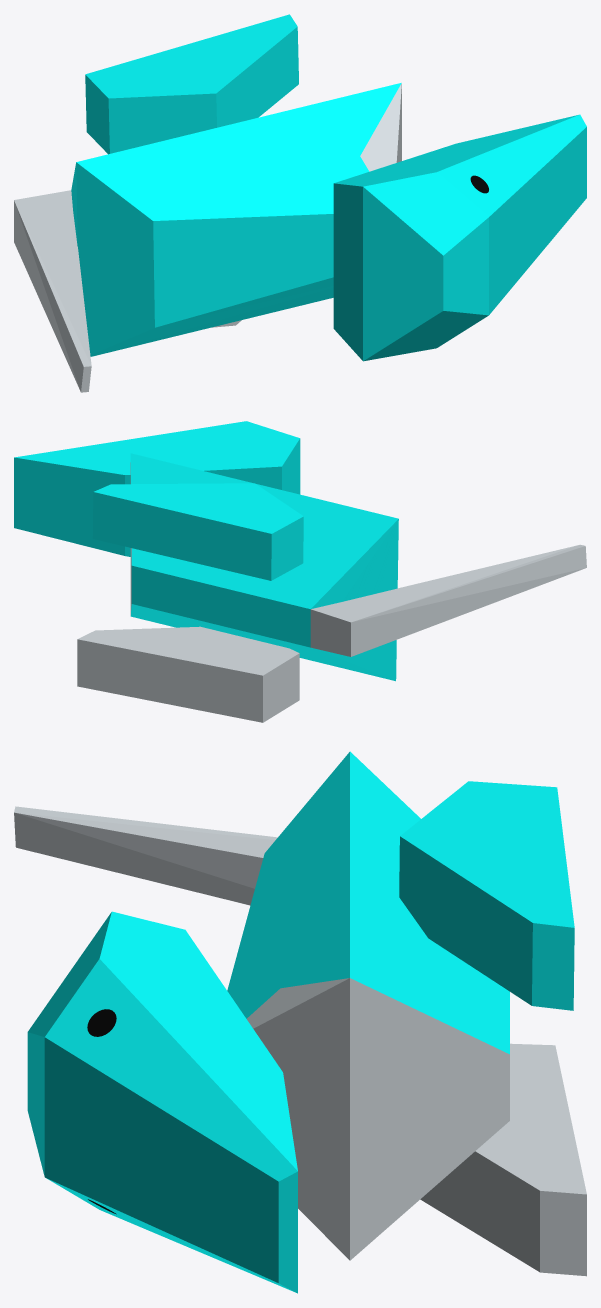
The picture shows the model from 3 angles, top to bottom: view 1: azimuth 30°, elevation 25°; view 2: azimuth 150°, elevation 25°; view 3: azimuth 270°, elevation 25°; orthographic projection. The views are drawn at different scales.
Parts seen in each view (by area): view 1: SketchUp; view 2: SketchUp; view 3: SketchUp.
Part boxes in pixels (x1,y1,x2,y2): SketchUp: (14,14,586,392); SketchUp: (14,421,586,722); SketchUp: (14,751,586,1293).
Size of the model in its own units: 113 by 42.91 by 65.92.
